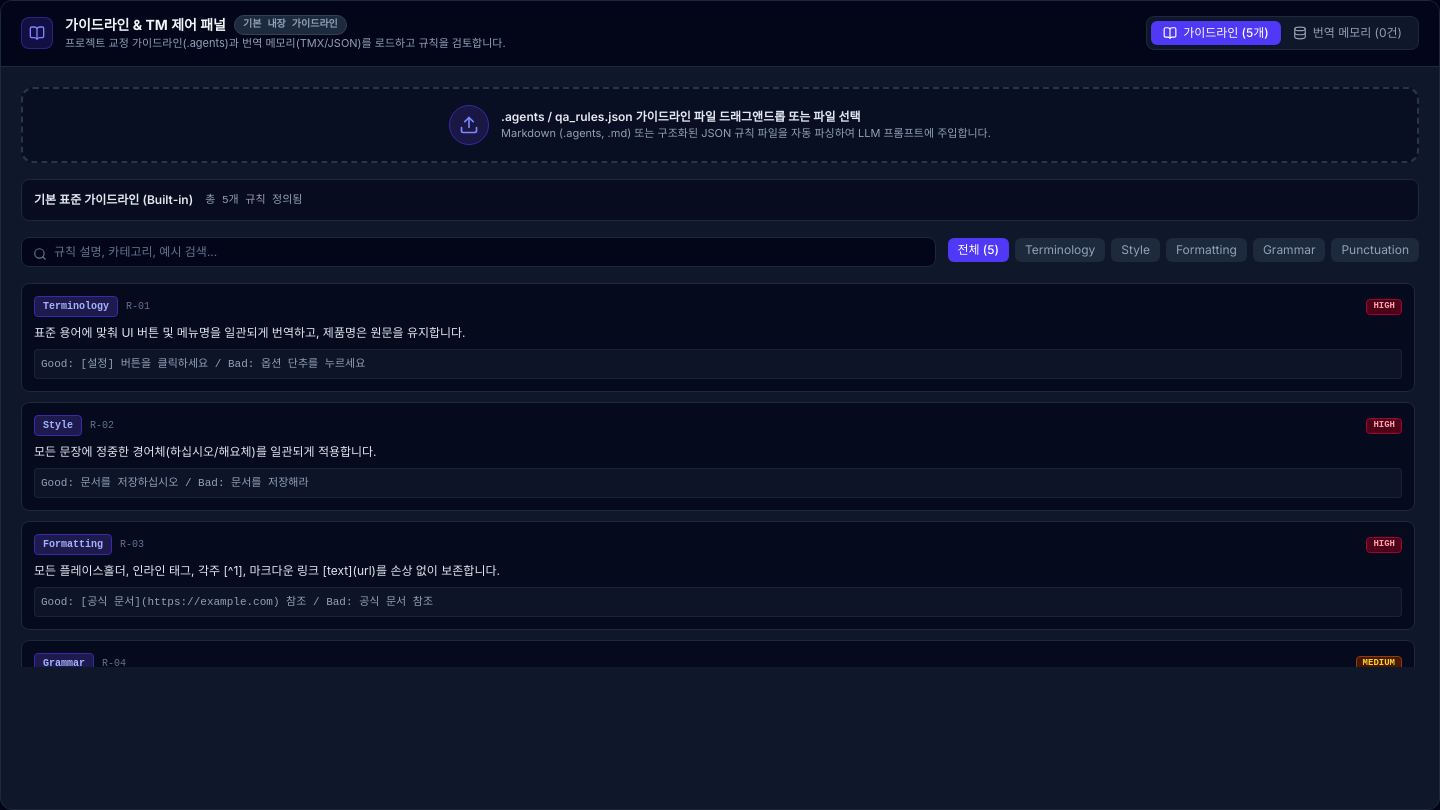
it: GuidelineViewer Component › should filter rules by category chip selection
Step 1. Click the button with test id "category-filter-Terminology" → (1060, 250), box [1015,238,1105,262]
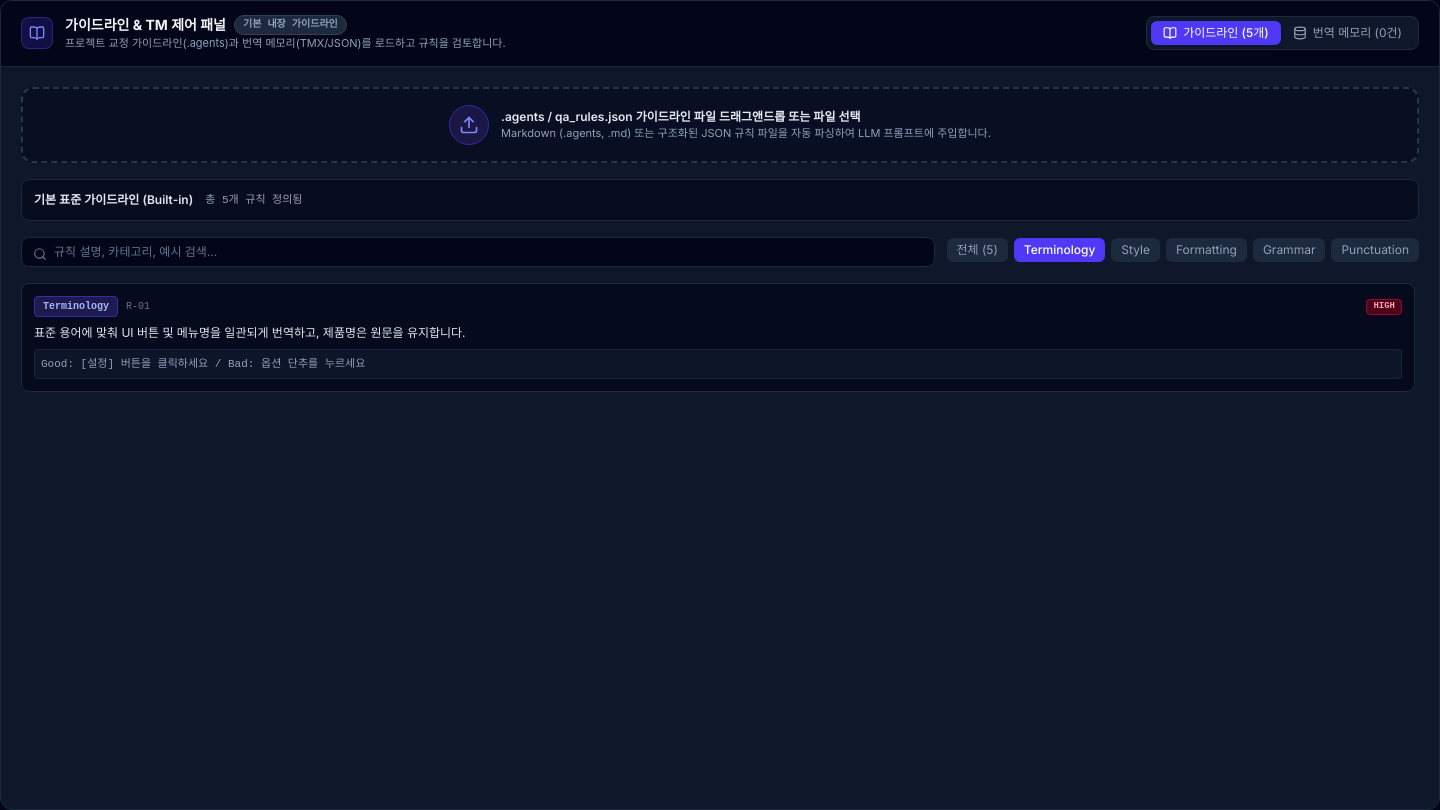
Check: the element with test id "guideline-rule-item" shows "표준 용어에 맞춰", box [34,325,466,340]
Check: the number of elements with test id "guideline-rule-item" is 1, box [21,283,1415,392]
